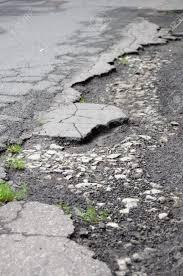pothole: (7, 30, 183, 276)
